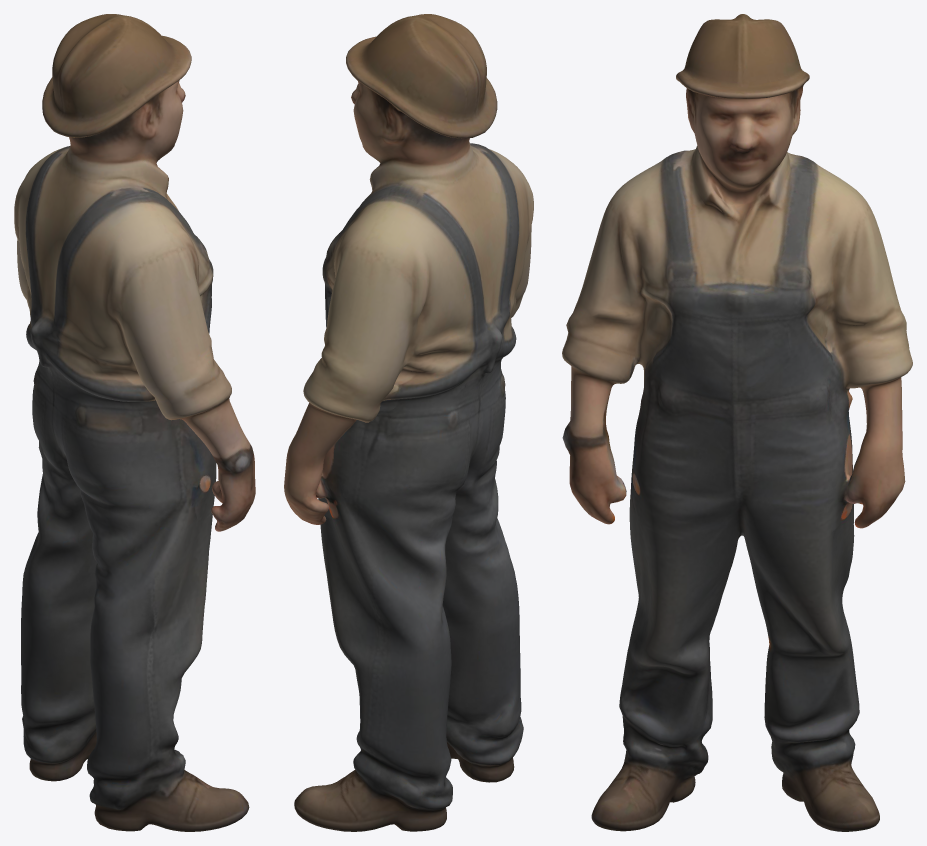
File: referenceman.glb
The picture shows the model from 3 angles, left to right: view 1: azimuth 30°, elevation 25°; view 2: azimuth 150°, elevation 25°; view 3: azimuth 270°, elevation 25°; orthographic projection. The views are drawn at different scales.
Parts seen in each view (by area): view 1: tripo_node_9309db65-e66b-448a-a3b4-fd4d3867e6d5; view 2: tripo_node_9309db65-e66b-448a-a3b4-fd4d3867e6d5; view 3: tripo_node_9309db65-e66b-448a-a3b4-fd4d3867e6d5.
Boxes of the visible parts, x1,y1,x2,y2 form: tripo_node_9309db65-e66b-448a-a3b4-fd4d3867e6d5: (14, 14, 255, 831); tripo_node_9309db65-e66b-448a-a3b4-fd4d3867e6d5: (284, 14, 533, 831); tripo_node_9309db65-e66b-448a-a3b4-fd4d3867e6d5: (562, 14, 912, 831).
Bounding box in the file's own units: 0.4224 × 1.91 × 0.7674.
1 material, 1 textured.
